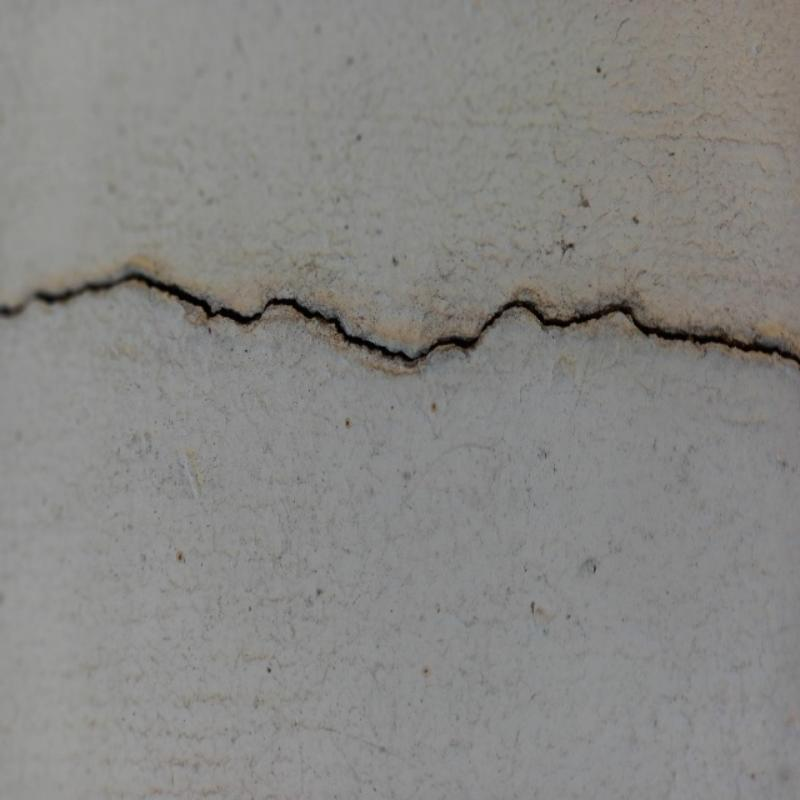pothole: (0, 253, 800, 387)
